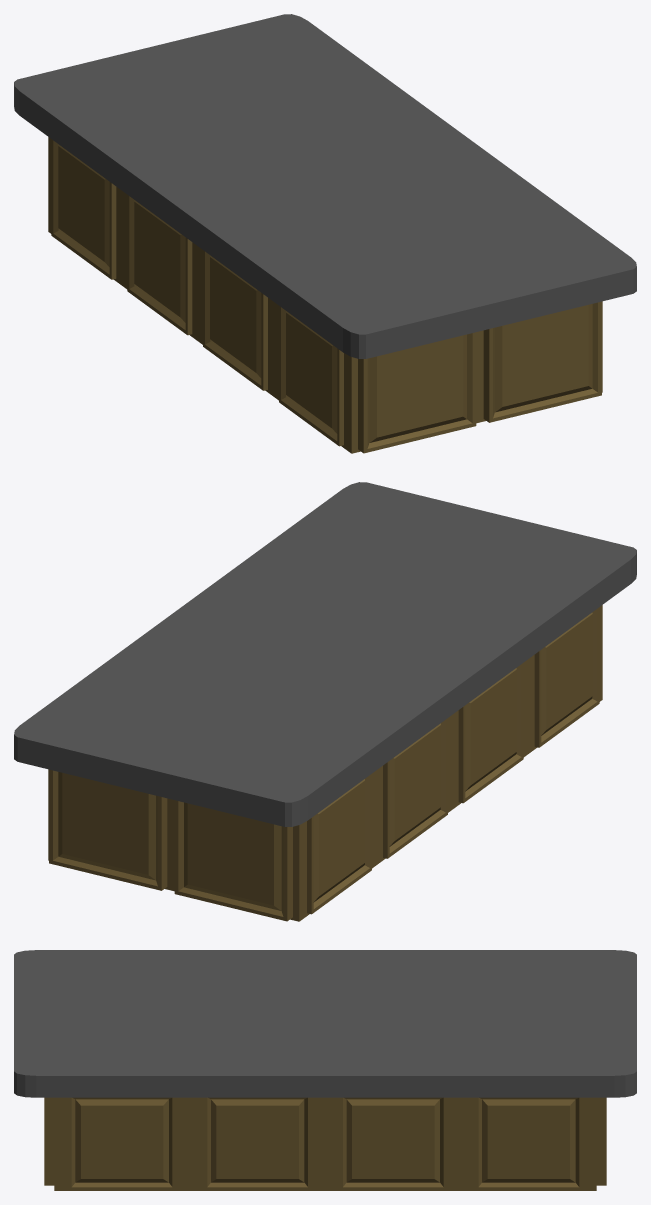
Rendered from masa bucatarie.fbx.
The picture shows the model from 3 angles, top to bottom: view 1: azimuth 30°, elevation 25°; view 2: azimuth 150°, elevation 25°; view 3: azimuth 270°, elevation 25°; orthographic projection. The views are drawn at different scales.
Visible parts, largest first — view 1: Cylinder.007; view 2: Cylinder.007; view 3: Cylinder.007.
Part boxes in pixels (x1=…): Cylinder.007: x1=14, y1=14, x2=636, y2=453; Cylinder.007: x1=14, y1=482, x2=636, y2=921; Cylinder.007: x1=14, y1=950, x2=636, y2=1190.
Bounding box in the file's own units: 230 × 105 × 481.
